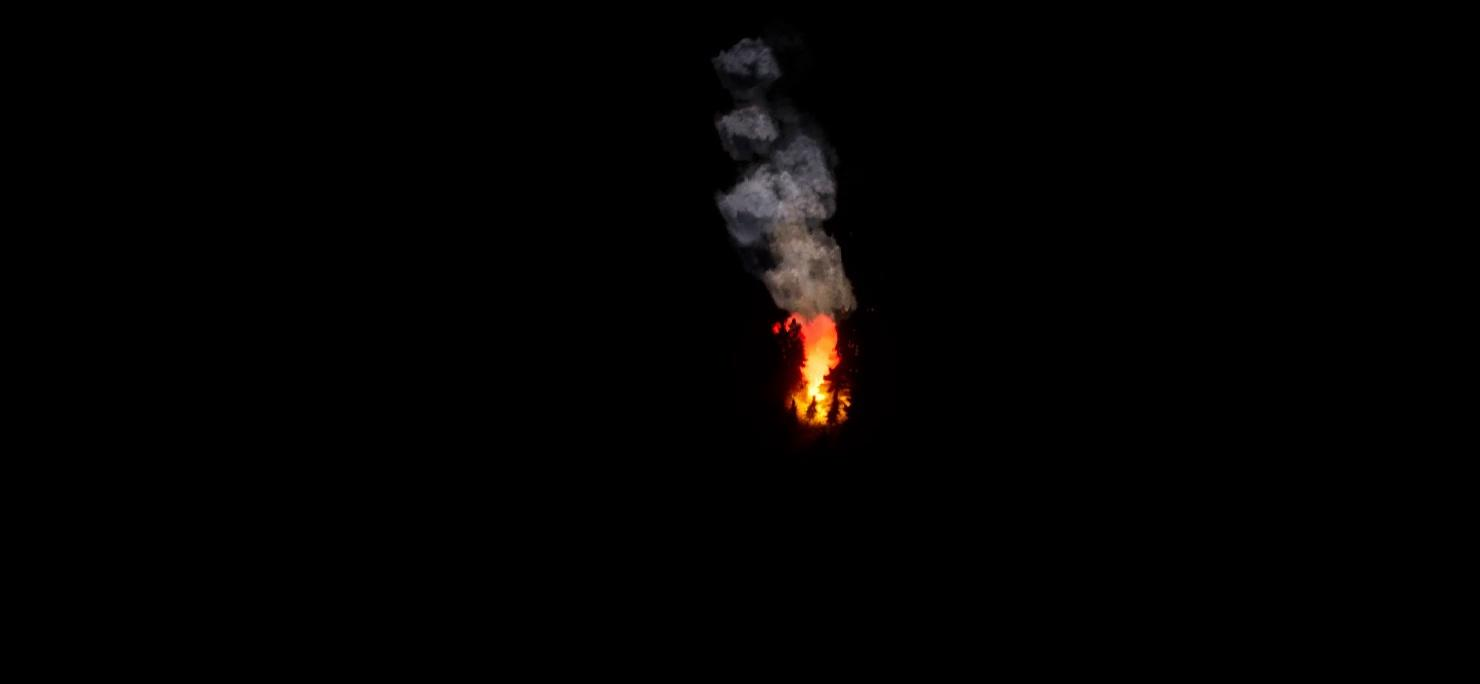fire: (775, 311, 852, 427)
smoke: (718, 29, 862, 317)
